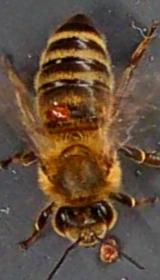varroa_mite: (38, 98, 76, 123)
